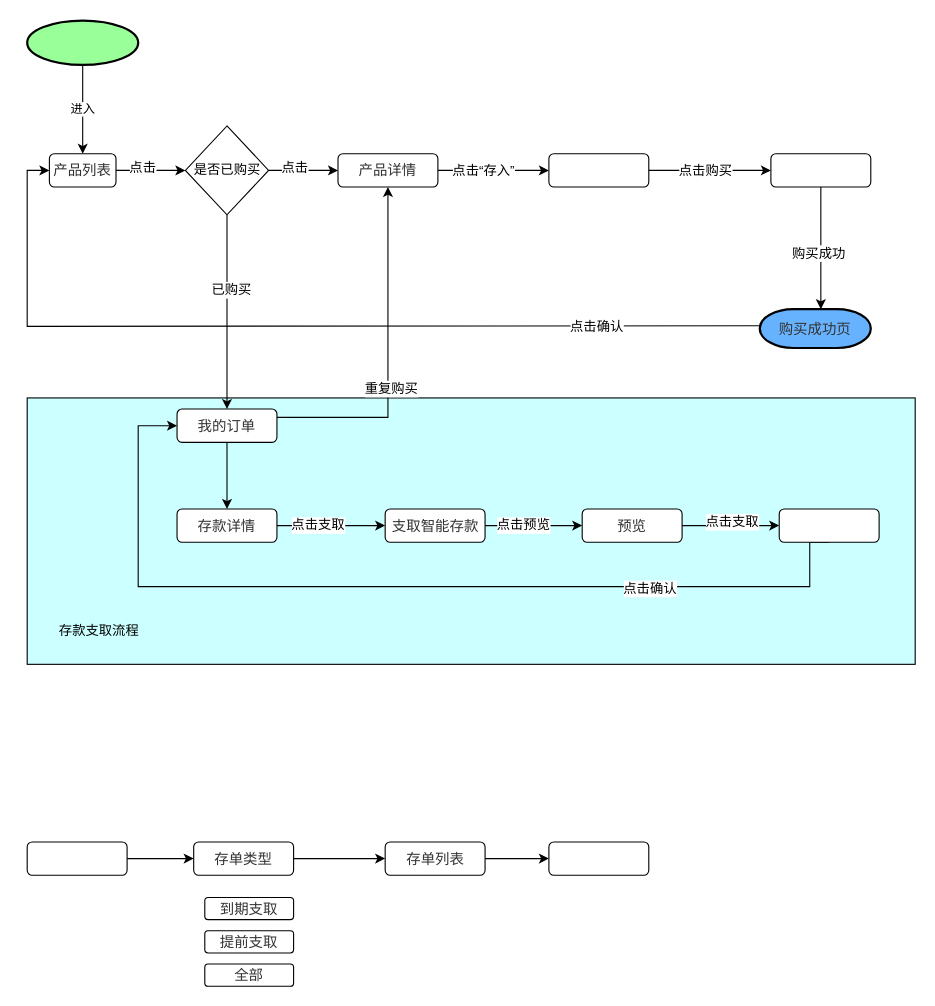
Some shapes in this 935 by 1006 pixel diagram are drawn without their labels. The shapes that lost their labels are listed below. From the top down, each one's box as (x1, y1, x2, y2) in pixels, then its label:
(26, 19, 139, 65): 首页智能存款
(548, 153, 649, 187): 预览订单
(770, 153, 871, 187): 交易密码
(778, 508, 879, 542): 操作结果页
(26, 841, 127, 875): 已完成存单
(548, 841, 649, 875): 存单详情
